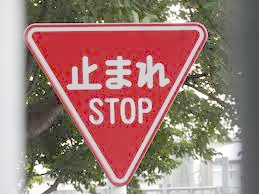Regulatory_sign_triangle: (22, 20, 222, 190)
